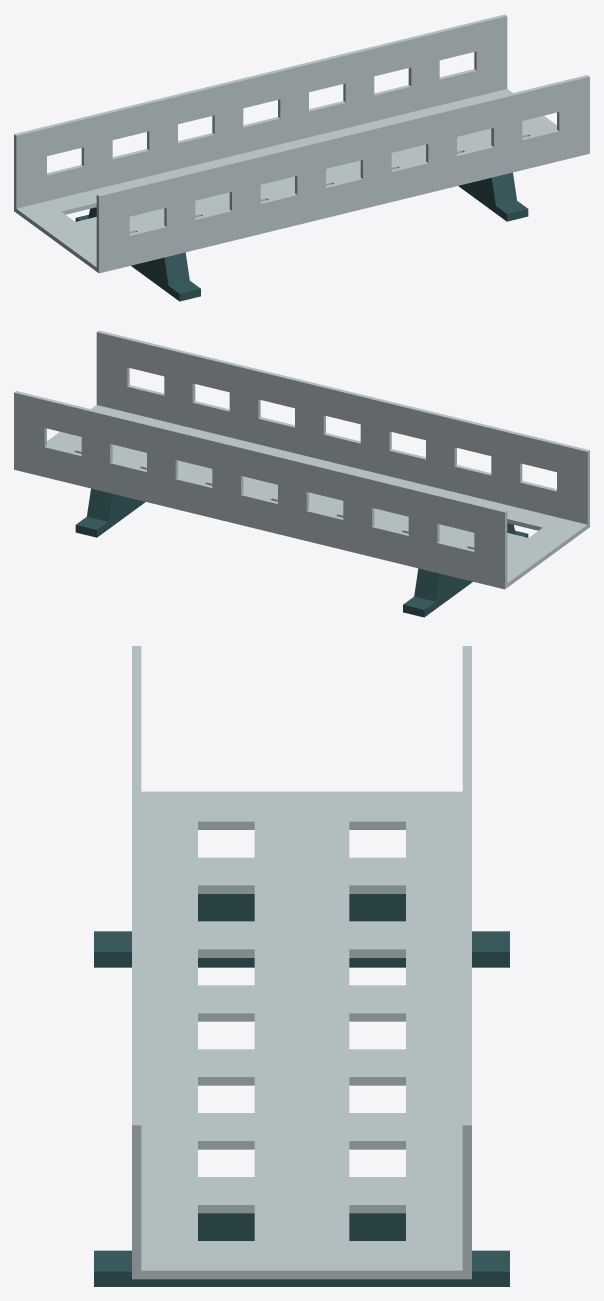
The picture shows the model from 3 angles, top to bottom: view 1: azimuth 30°, elevation 25°; view 2: azimuth 150°, elevation 25°; view 3: azimuth 270°, elevation 25°; orthographic projection. The views are drawn at different scales.
Visible parts, largest first — view 1: Tray_ContinuousPerforatedU, Support_InsetFlared_01, Support_InsetFlared_02; view 2: Tray_ContinuousPerforatedU, Support_InsetFlared_01, Support_InsetFlared_02; view 3: Tray_ContinuousPerforatedU, Support_InsetFlared_02, Support_InsetFlared_01.
Part boxes in pixels (x1,y1,x2,y2): Tray_ContinuousPerforatedU: [14, 14, 589, 273]; Support_InsetFlared_01: [75, 207, 200, 301]; Support_InsetFlared_02: [458, 172, 528, 221]; Tray_ContinuousPerforatedU: [14, 330, 589, 589]; Support_InsetFlared_01: [403, 523, 528, 617]; Support_InsetFlared_02: [75, 488, 145, 537]; Tray_ContinuousPerforatedU: [132, 646, 471, 1279]; Support_InsetFlared_02: [94, 1213, 509, 1286]; Support_InsetFlared_01: [94, 894, 509, 967].
Size of the model in its own units: 1.2 by 0.27 by 0.44.
